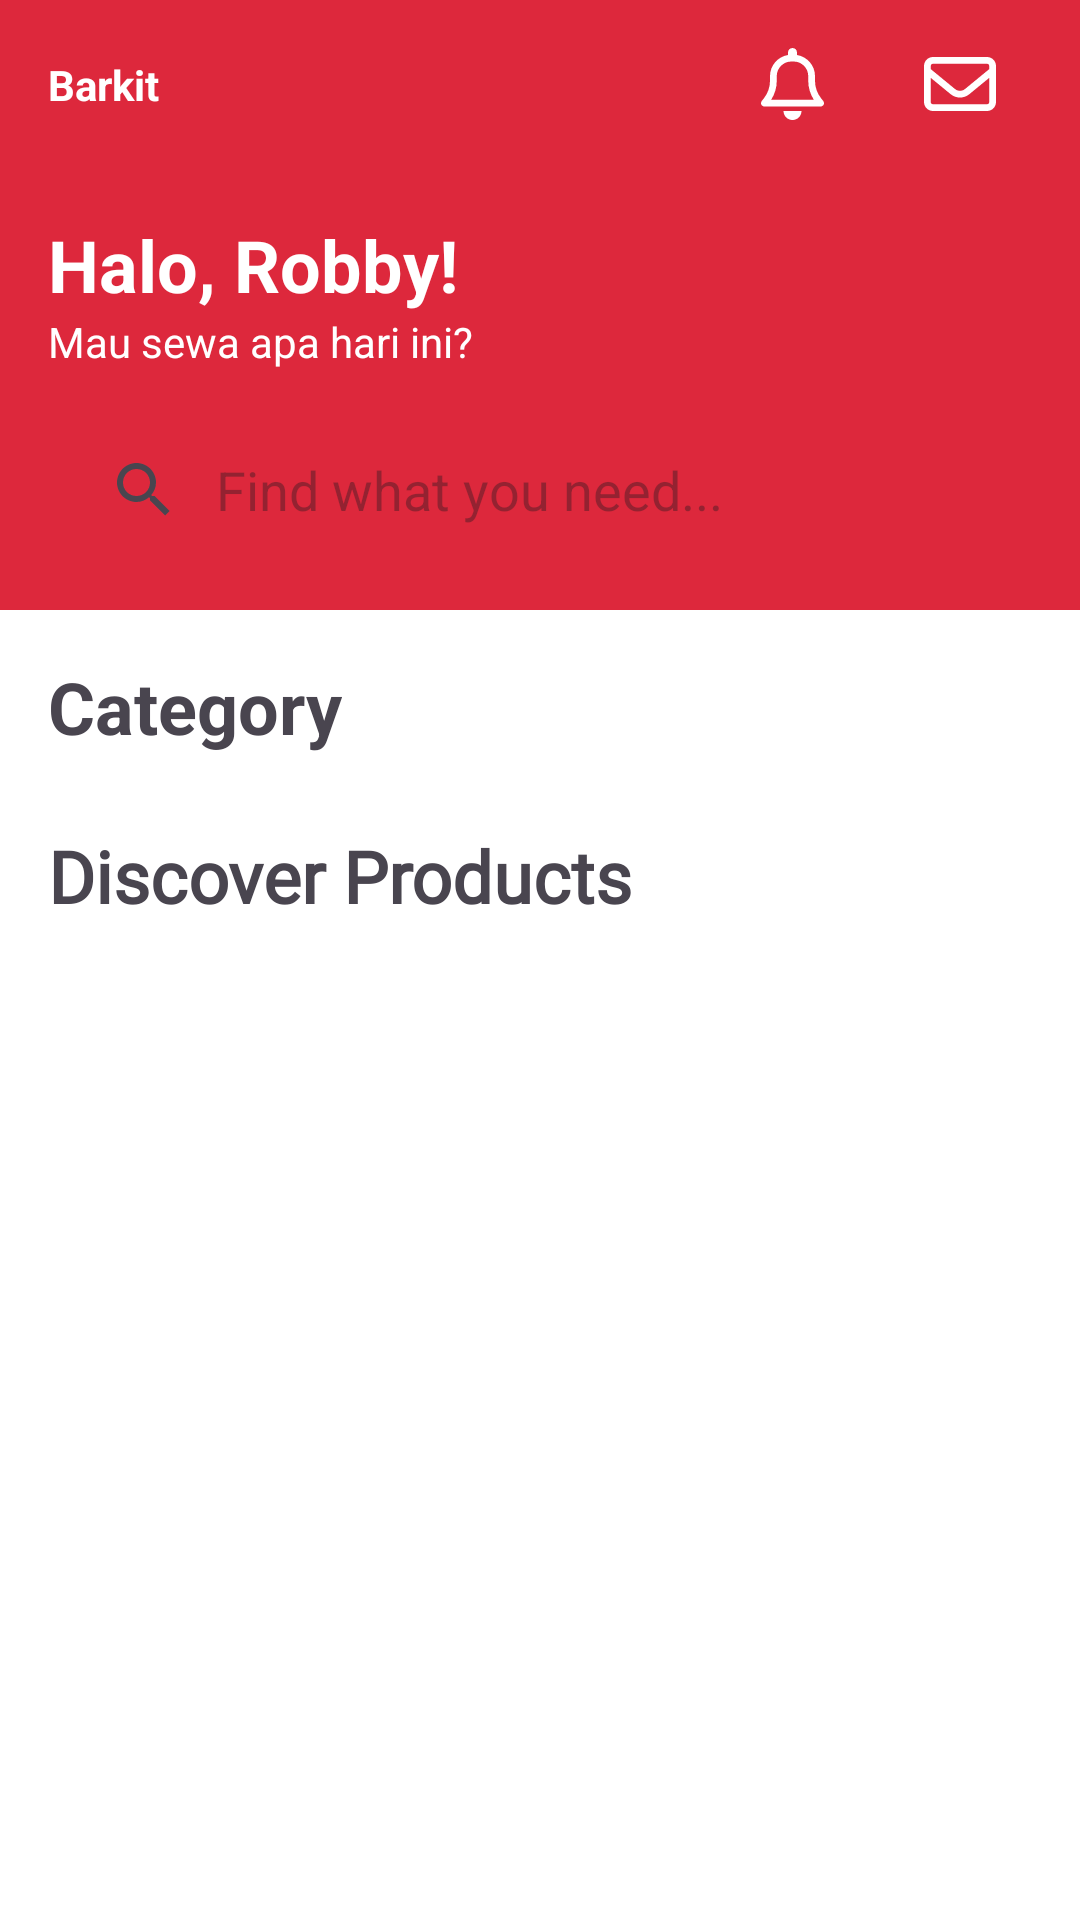

Where icons sit on this 1080x1920 app screen, as BBox(x1, y1, x2, y2):
bell: BBox(761, 48, 824, 120)
envelope: BBox(924, 57, 996, 111)
